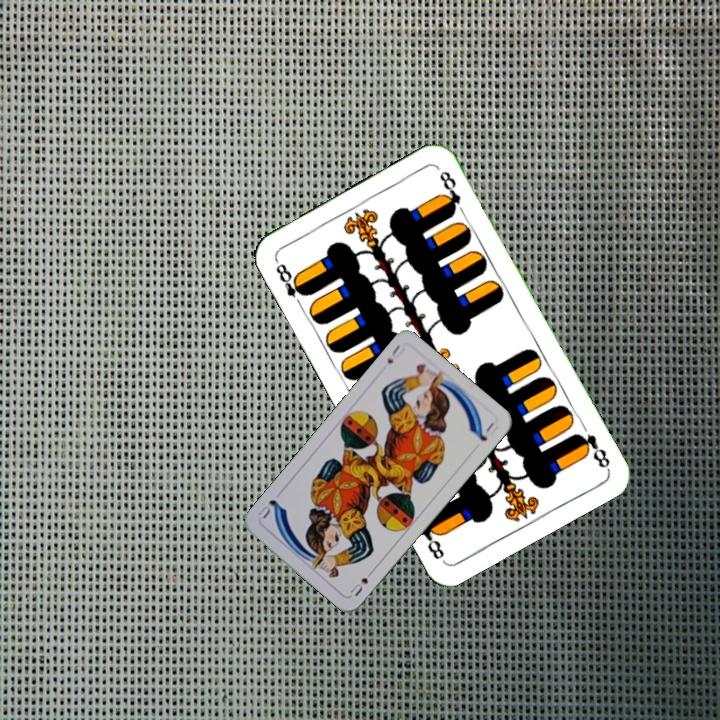E8: (271, 259, 311, 310), (571, 429, 613, 472)
SU: (346, 564, 377, 599), (383, 340, 407, 366)
